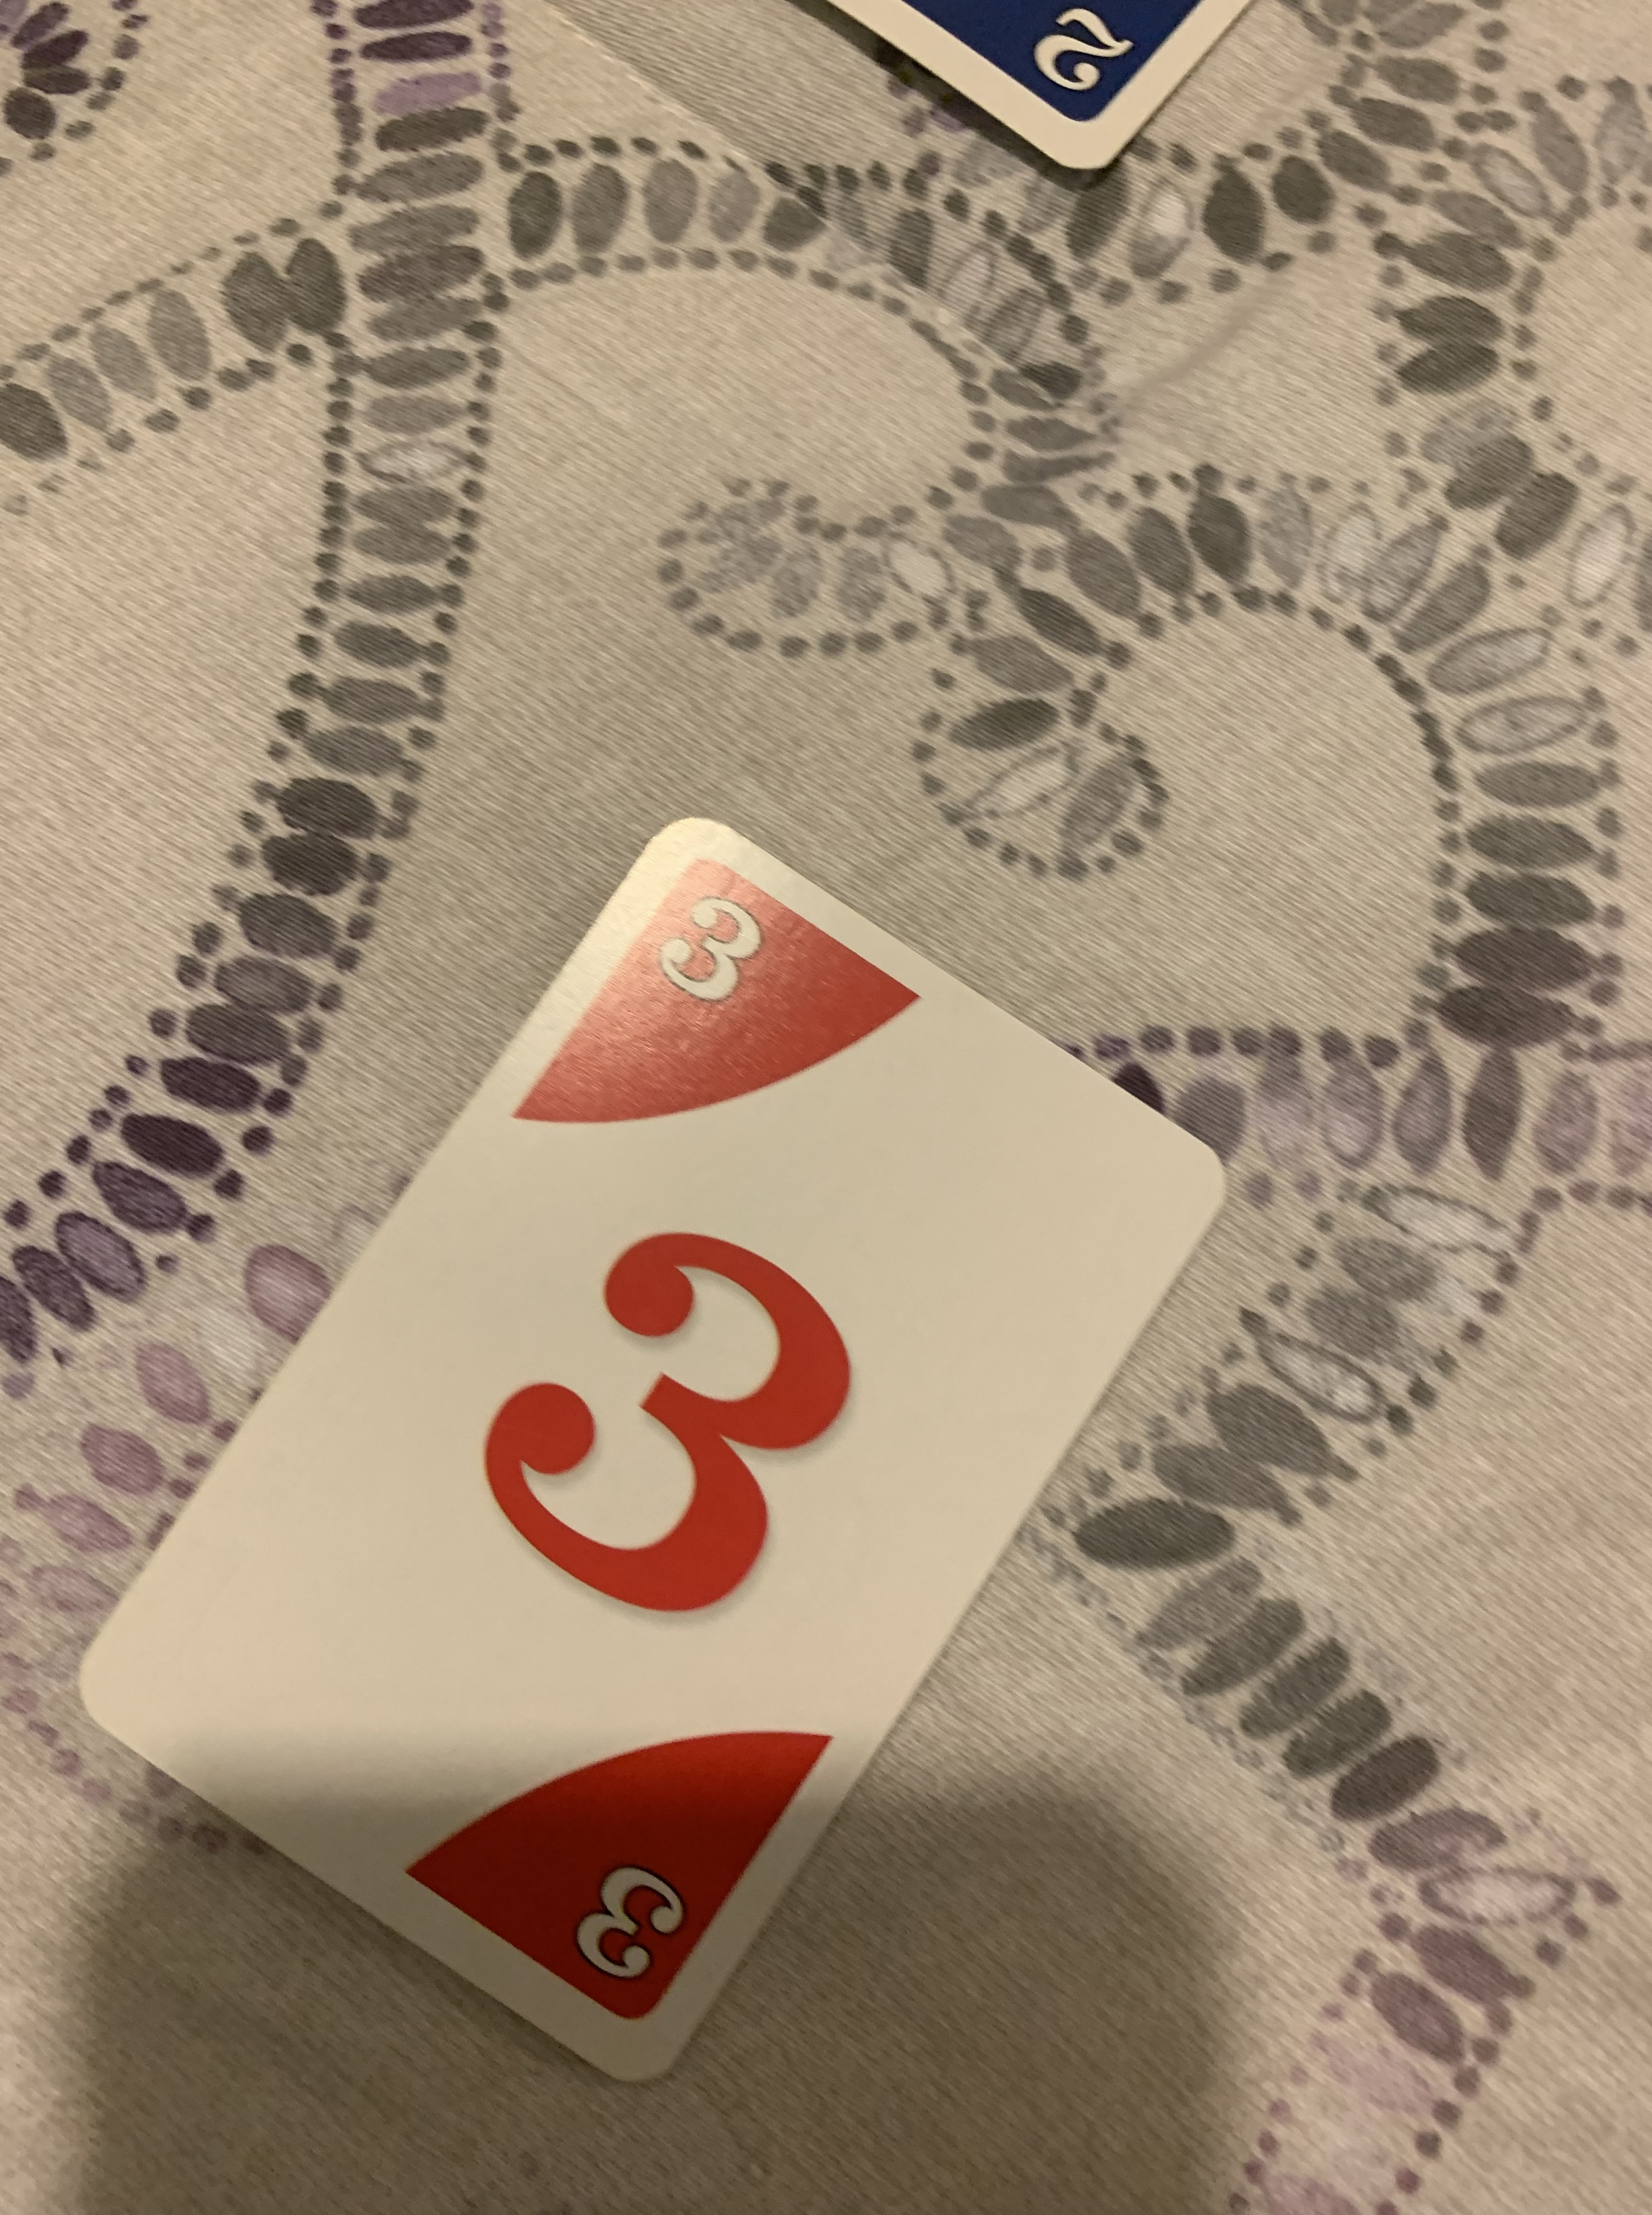three: (69, 807, 1225, 2093)
